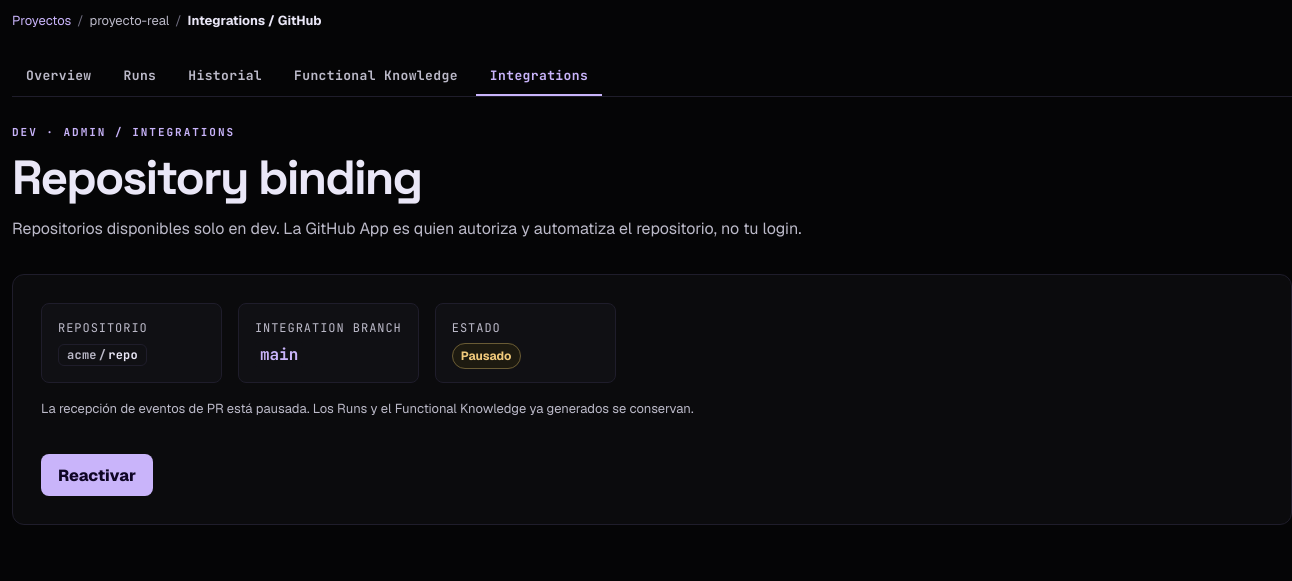
Test: HU64: Reactivar con GITHUB_REPOSITORY_NOT_FOUND no dice «Vuelve a elegirlo de la lista» y apunta a crear un proyecto nuevo
This screenshot has width=1292, height=581.
Click the button "Reactivar" at (97, 475), box [41,454,153,496]
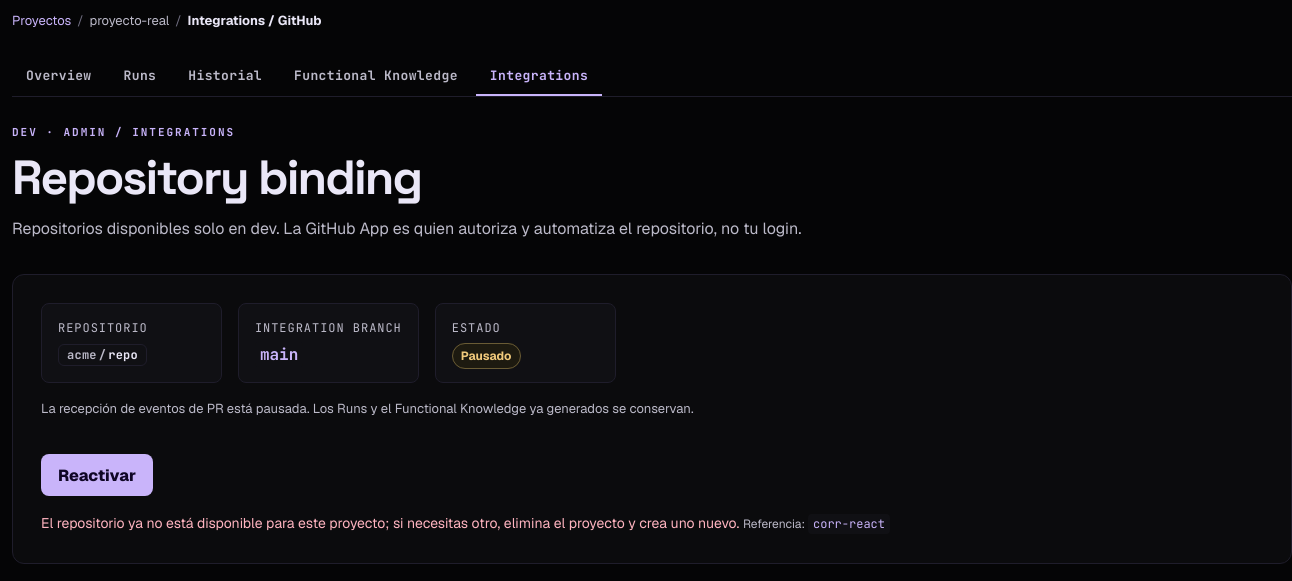
Result: the message shows "El repositorio ya no está disponible para este proyecto; si necesitas otro, elimina el proyecto y crea uno nuevo." at [41,514,739,532]
Result: the message shows "corr-react" at [813,516,885,532]
